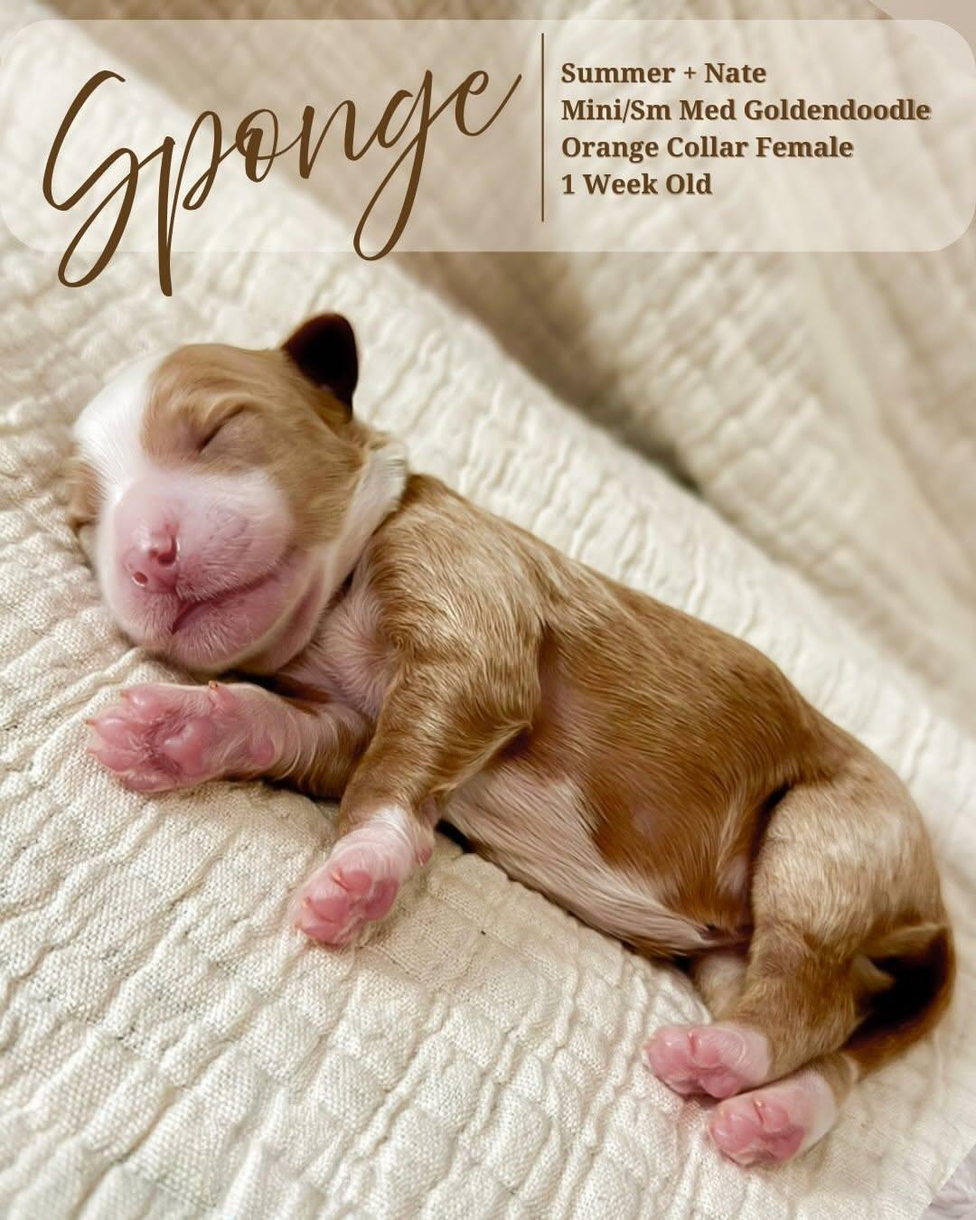puppy-dog: (55, 311, 958, 1171)
